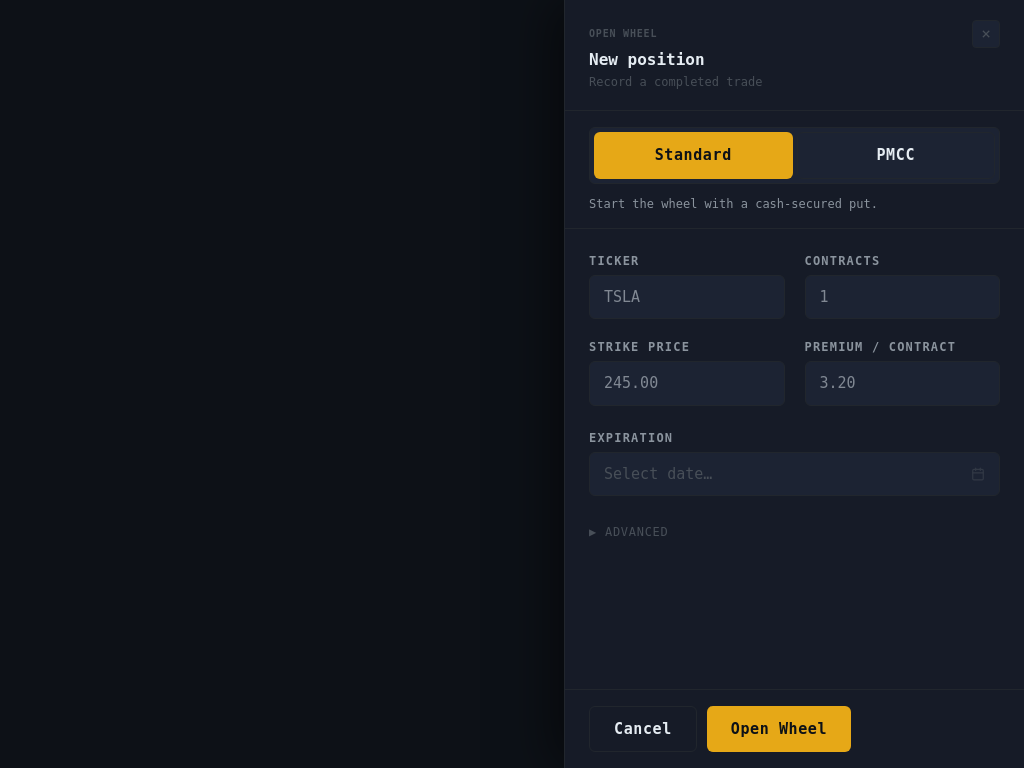
it: NewPositionSheet — switching strategy › hides, not unmounts, the wheel form and shows the PMCC form
This screenshot has width=1024, height=768.
Click the button "PMCC" at coordinates (896, 155), box [796,132,995,178]
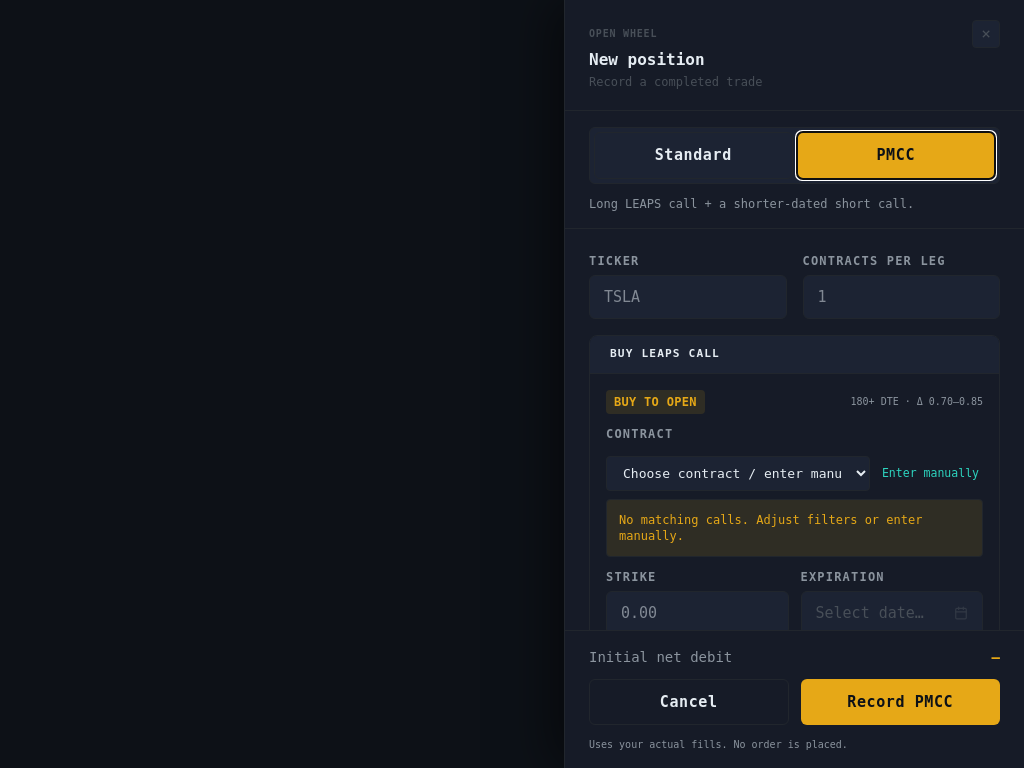
Expected: the field labelled "Ticker" is shown, [589,274,786,319]
Now the text "Long LEAPS call + a shorter-dated short call." is shown, box [589,196,914,210]
Now the button with test id "record-pmcc" is shown, box [800,678,1000,725]
